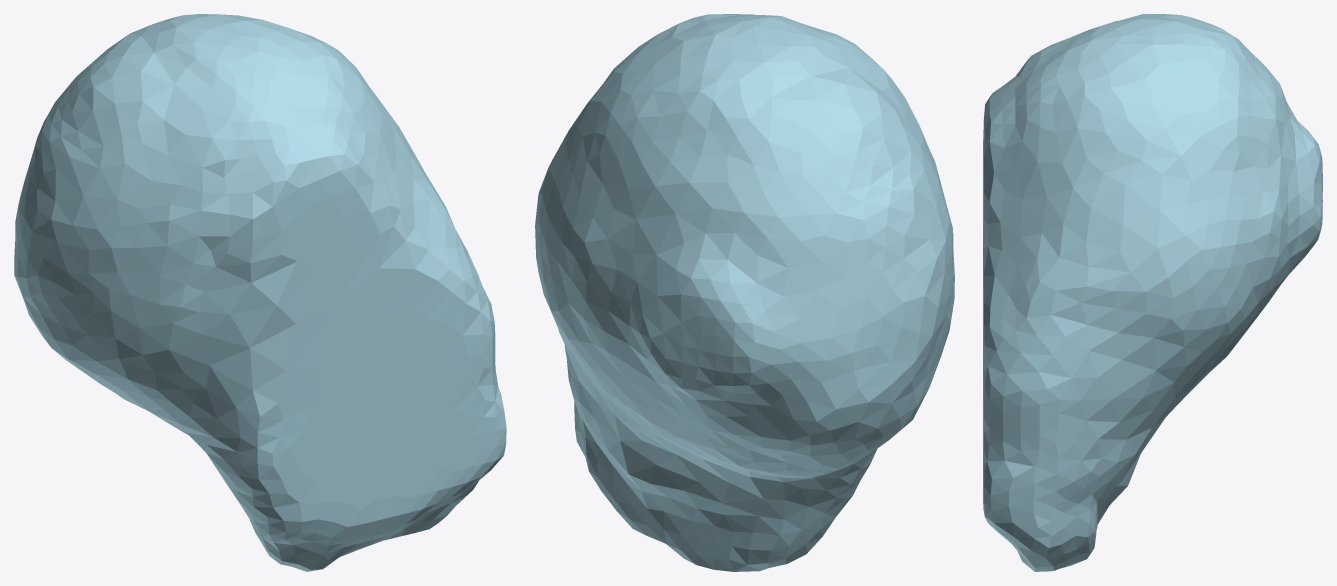
Rendered from liverkyste.obj.
3 renders of one model, left to right at view 1: azimuth 30°, elevation 25°; view 2: azimuth 150°, elevation 25°; view 3: azimuth 270°, elevation 25°, orthographic. The views are drawn at different scales.
Parts seen in each view (by area): view 1: grp1; view 2: grp1; view 3: grp1.
Boxes of the visible parts, x1=… form: grp1: x1=14, y1=14, x2=506, y2=571; grp1: x1=535, y1=14, x2=954, y2=571; grp1: x1=983, y1=14, x2=1322, y2=571.
Bounding box in the file's own units: 22.31 × 28.47 × 18.
